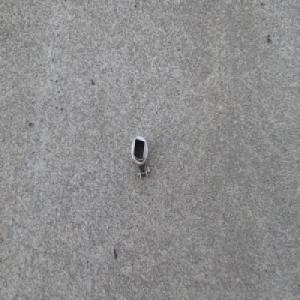MetalPart: (130, 135, 150, 181)
